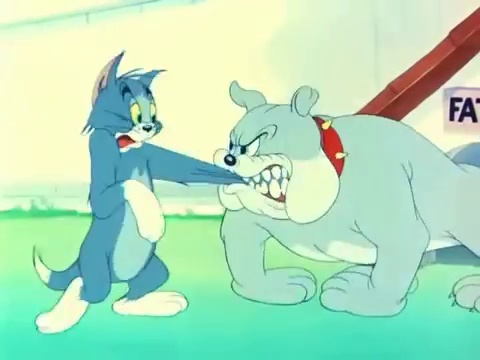spike: (213, 75, 349, 222)
tom: (81, 49, 169, 160)
